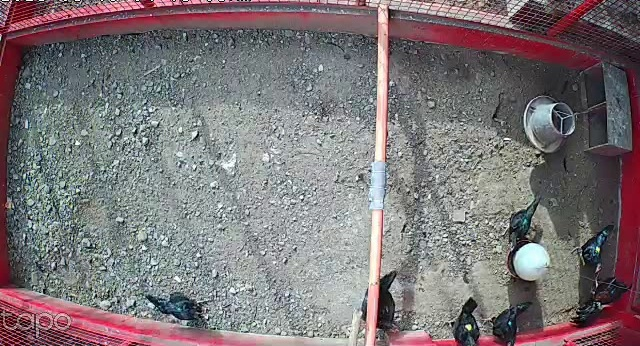Chicken: (359, 264, 409, 338), (142, 283, 215, 331), (498, 194, 543, 254), (568, 220, 616, 276), (480, 296, 532, 346), (439, 294, 487, 346)
Rooster: (570, 269, 630, 329)
Saddle_Color_Blue: (522, 220, 527, 225)
Saddle_Color_Yellow: (462, 322, 475, 332), (595, 247, 602, 253)
